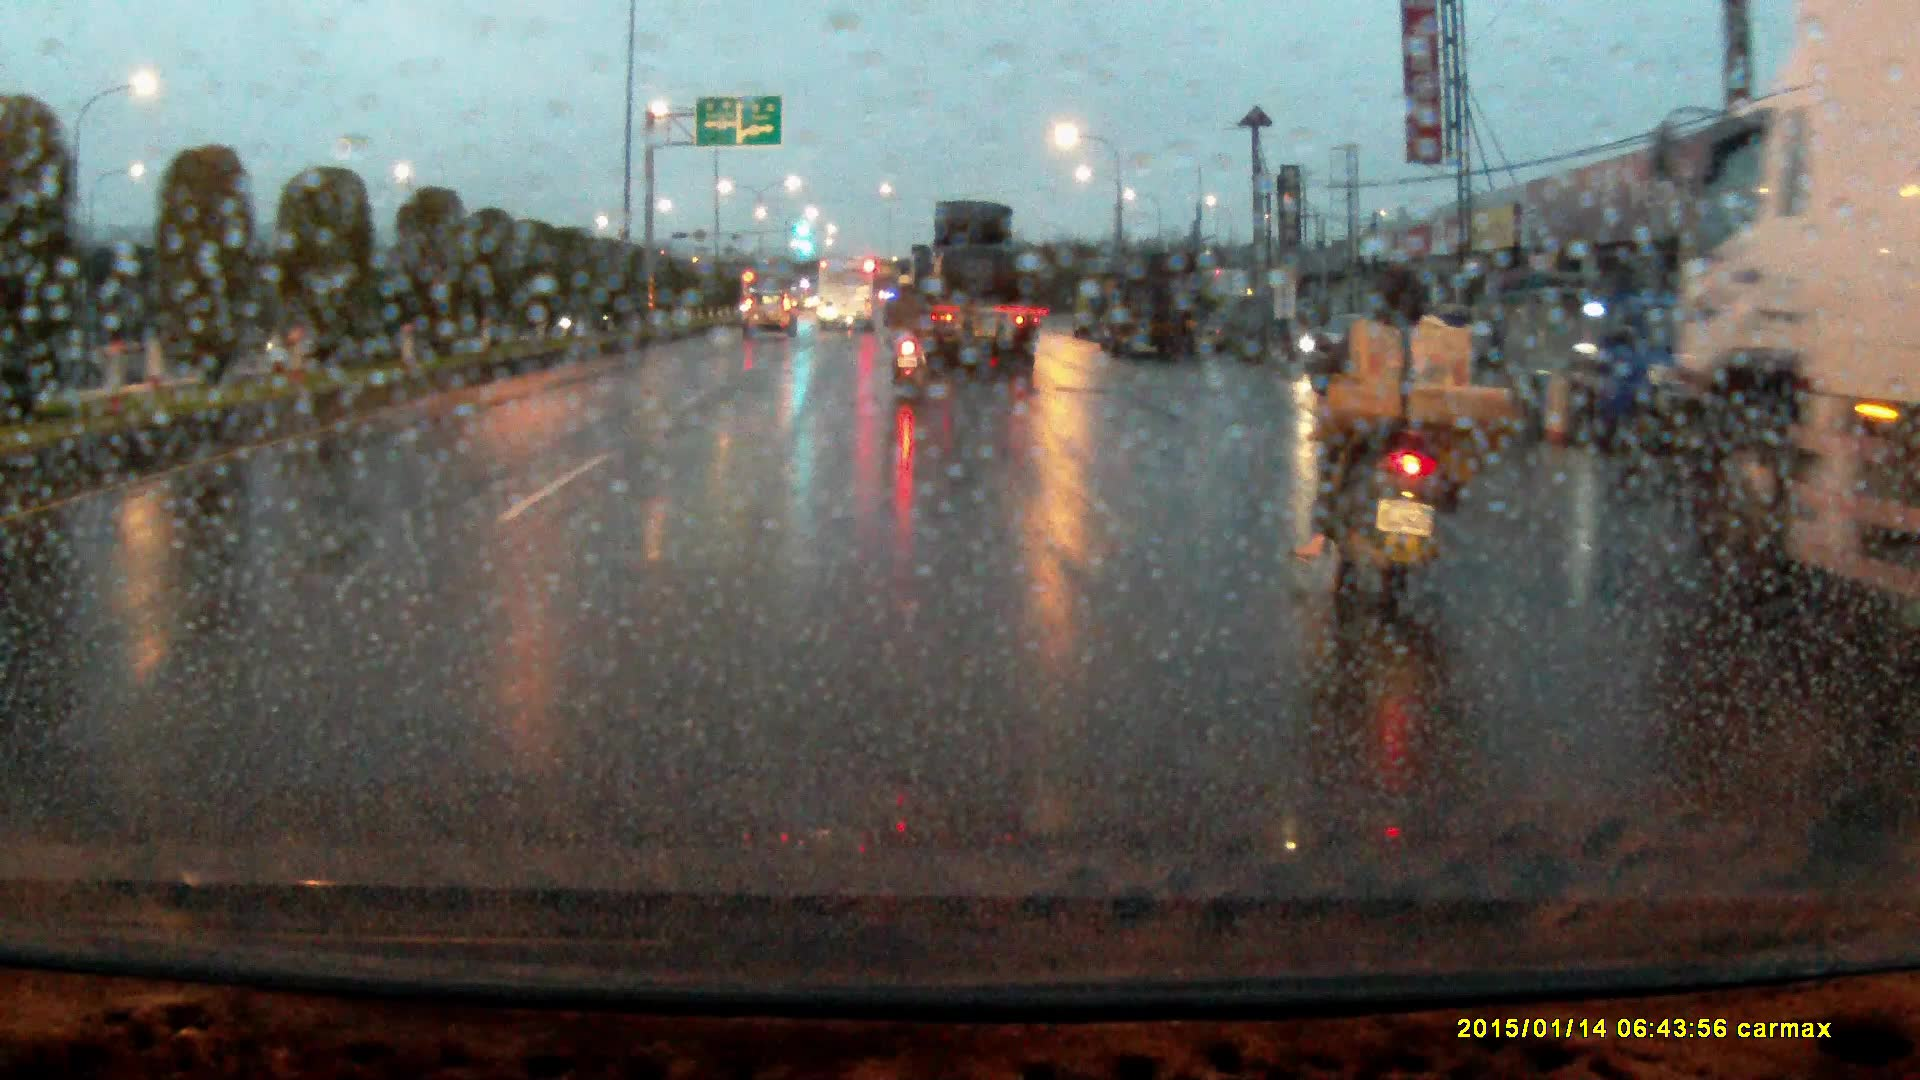rider: (1299, 251, 1523, 641), (886, 268, 937, 384)
vehicle: (1658, 9, 1920, 613), (1506, 288, 1684, 447), (895, 197, 1040, 376), (1108, 254, 1207, 364), (816, 257, 878, 335), (1071, 279, 1118, 337), (742, 292, 798, 340)
